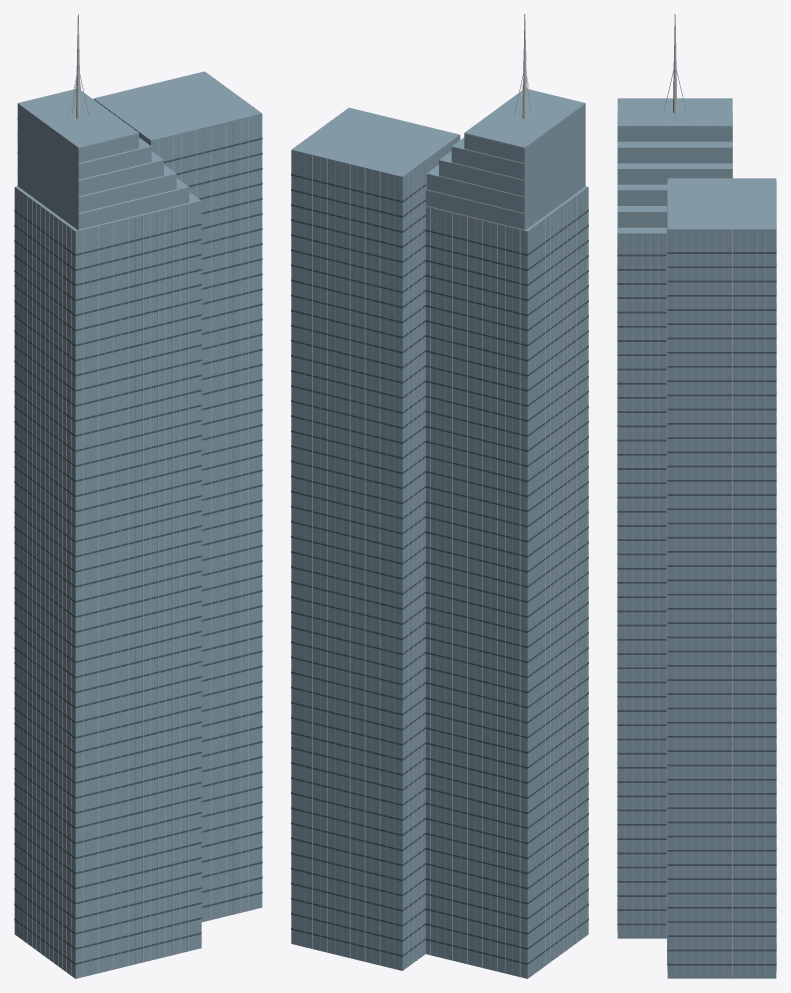
The model's file is coex.glb.
3 renders of one model, left to right at view 1: azimuth 30°, elevation 25°; view 2: azimuth 150°, elevation 25°; view 3: azimuth 270°, elevation 25°, orthographic. The views are drawn at different scales.
Parts seen in each view (by area): view 1: coex_root_Trade_Blue_Grey_Glazing, coex_root_Trade_Silver_Mullions, coex_root_Trade_Dark_Horizontal_Spandrels; view 2: coex_root_Trade_Blue_Grey_Glazing, coex_root_Trade_Silver_Mullions, coex_root_Trade_Dark_Horizontal_Spandrels; view 3: coex_root_Trade_Blue_Grey_Glazing, coex_root_Trade_Dark_Horizontal_Spandrels, coex_root_Trade_Silver_Mullions.
Boxes of the visible parts, x1,y1,x2,y2 form: coex_root_Trade_Blue_Grey_Glazing: (14, 71, 262, 978); coex_root_Trade_Silver_Mullions: (17, 14, 254, 976); coex_root_Trade_Dark_Horizontal_Spandrels: (14, 137, 262, 964); coex_root_Trade_Blue_Grey_Glazing: (291, 89, 588, 978); coex_root_Trade_Silver_Mullions: (305, 14, 584, 976); coex_root_Trade_Dark_Horizontal_Spandrels: (291, 174, 588, 964); coex_root_Trade_Blue_Grey_Glazing: (617, 98, 776, 978); coex_root_Trade_Dark_Horizontal_Spandrels: (617, 201, 776, 965); coex_root_Trade_Silver_Mullions: (617, 14, 776, 978).
Size of the model in its own units: 61.48 by 256 by 42.06.
